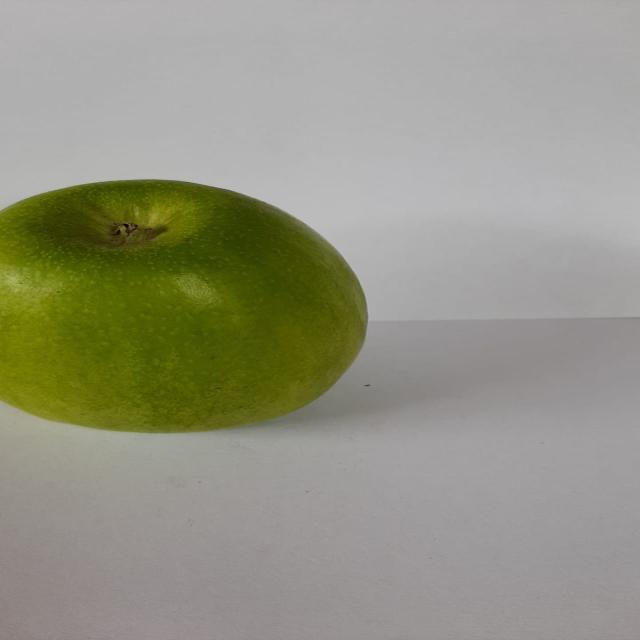50-_ripeness: (0, 168, 378, 448)
